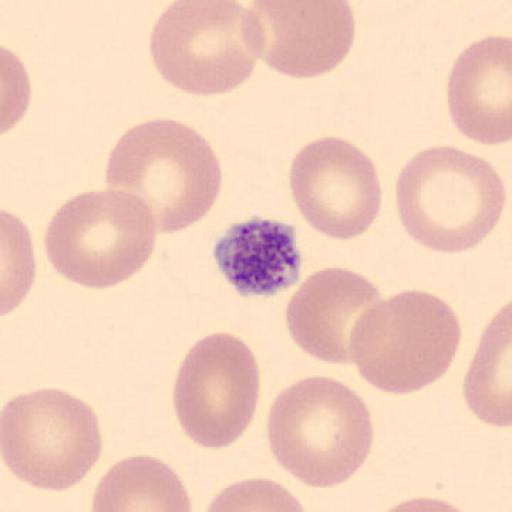Platelet: (210, 213, 306, 299)
RBC: (104, 117, 222, 236), (394, 143, 506, 256), (265, 374, 375, 489), (348, 288, 463, 396), (43, 187, 158, 291), (148, 1, 267, 98), (170, 330, 262, 450), (1, 386, 103, 494), (287, 134, 383, 243), (284, 265, 384, 367), (244, 0, 358, 80), (445, 34, 512, 147), (462, 300, 512, 430), (90, 453, 194, 512), (0, 207, 38, 319), (200, 475, 312, 512), (1, 44, 32, 137), (374, 493, 482, 512)
